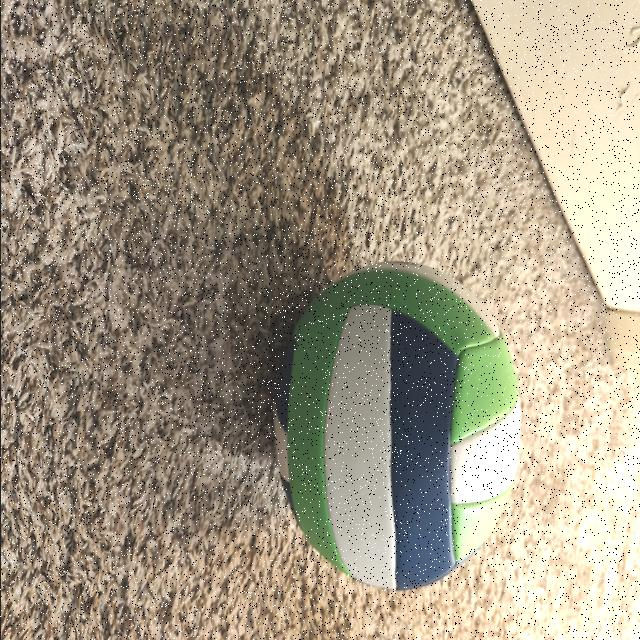ball: (278, 272, 522, 586)
